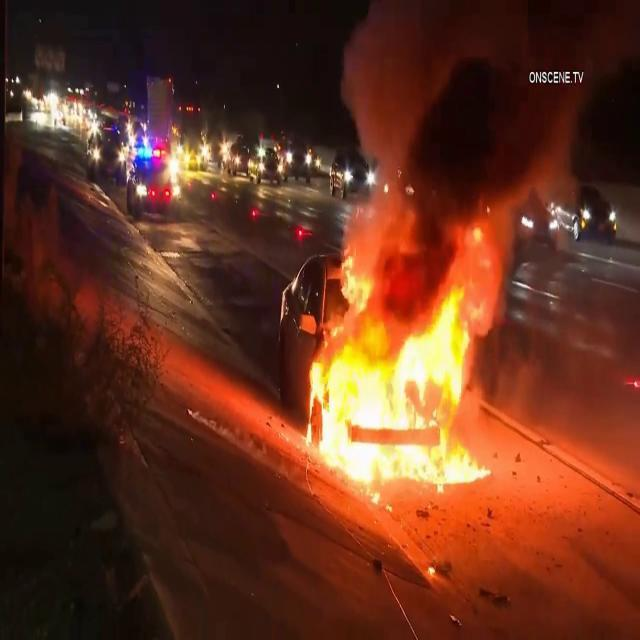Fire: (306, 280, 506, 504)
Smoke: (310, 0, 640, 266)
